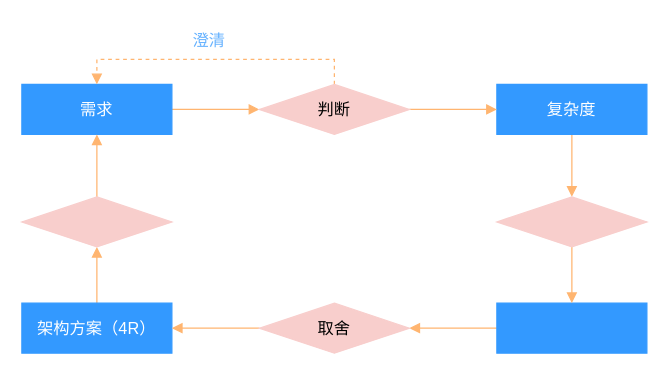
The diagram is 669 pixels wide and 375 high, and some of its shapes have lost their labels. The centre of each missing label's shape, as x and y in pixels:
"备选方案" belongs at (571,327).
"实现" belongs at (96,221).
"拆解" belongs at (571,221).
